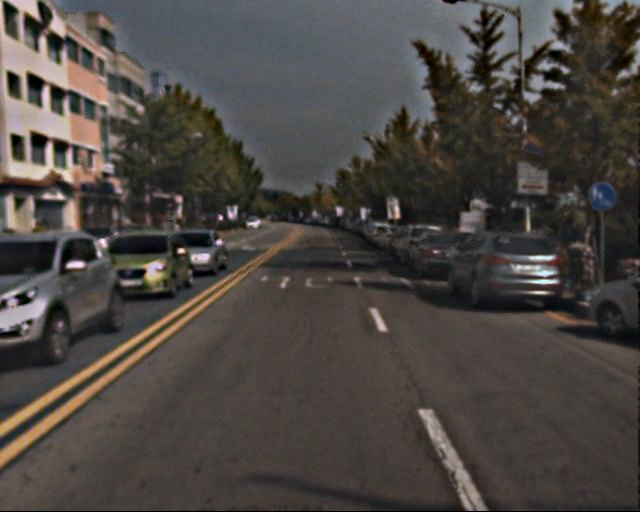person: (552, 216, 583, 291)
